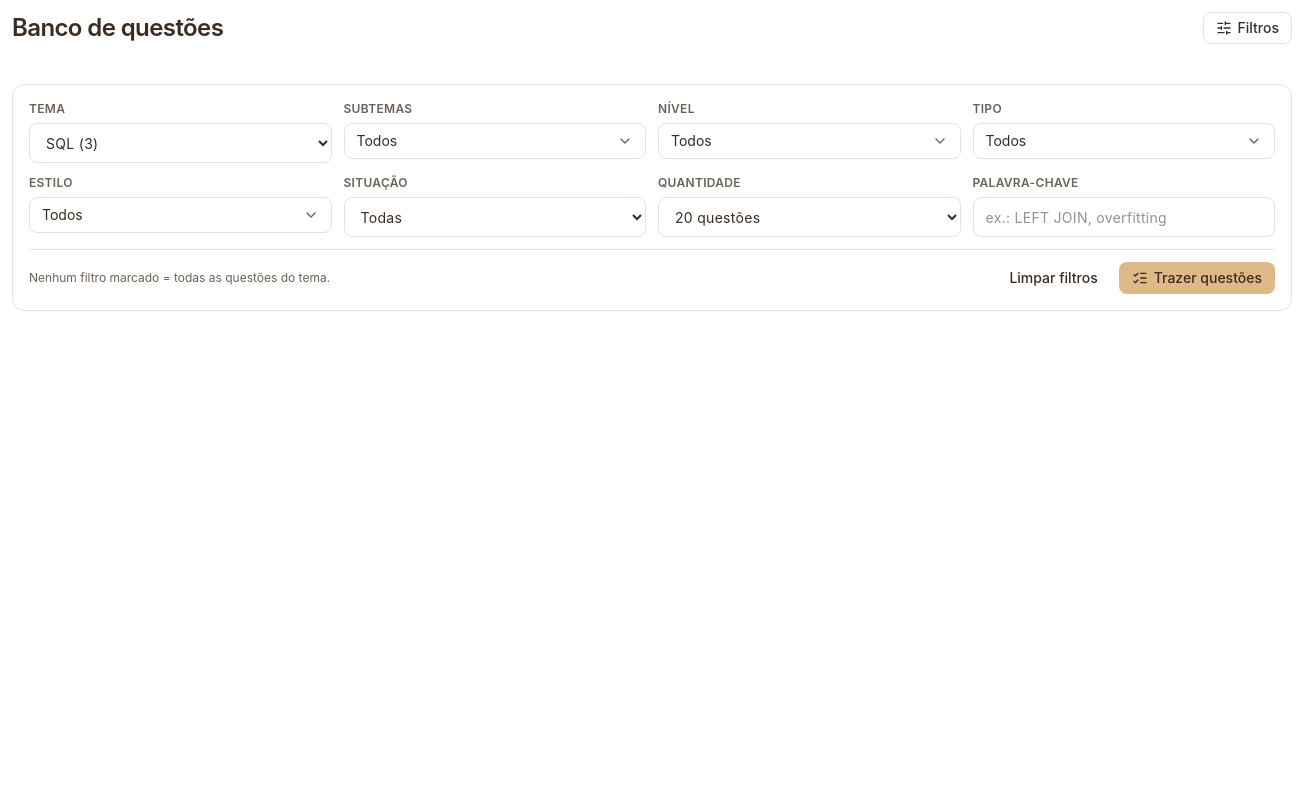
it: banco de questões › só monta a lista quando o usuário clica em "Trazer questões", e aí recolhe os filtros
expect the dropdown labelled "Tema" is shown: met, box [29,123,332,163]
Click the button "Trazer questões": coordinates (1197, 278) [1119,262,1275,294]
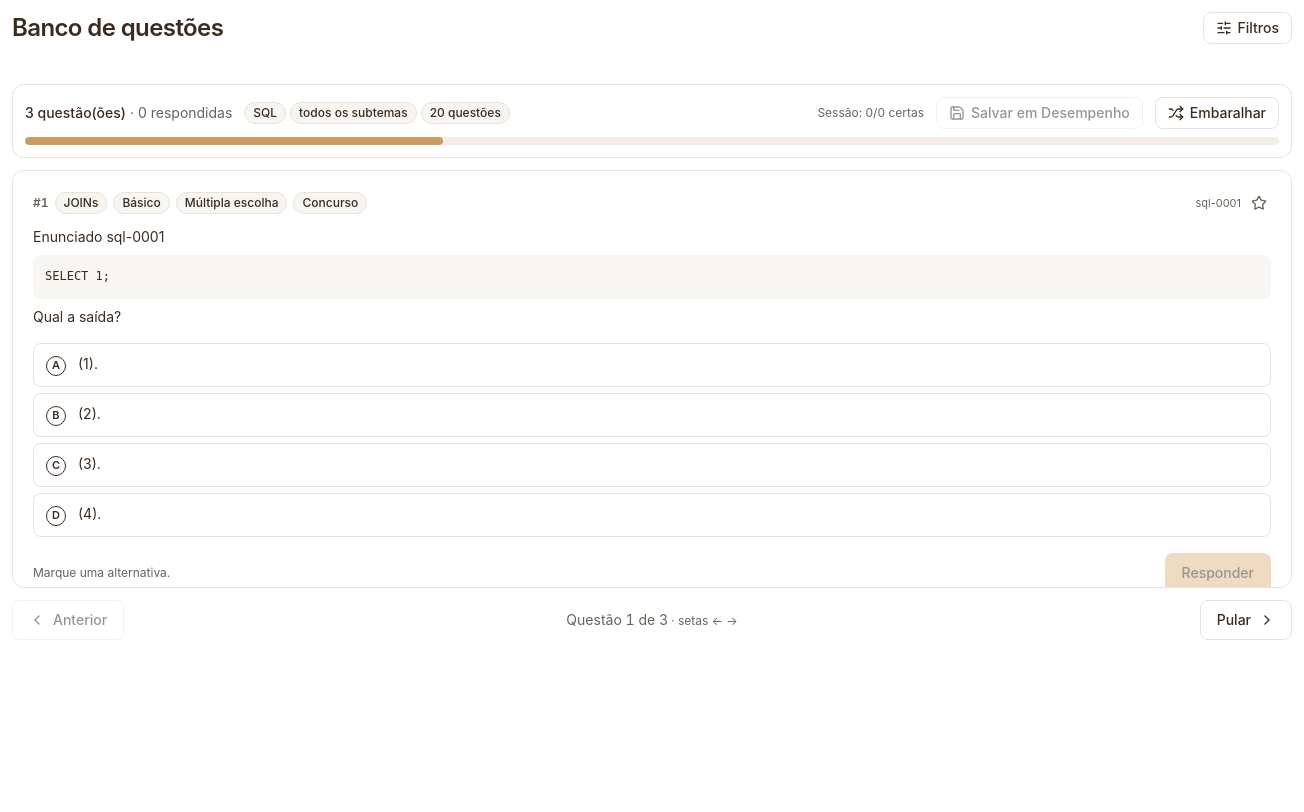
expect the text "3 questão(ões)" is shown: met, box [25,104,126,121]
expect the text "todos os subtemas" is shown: met, box [290,102,417,124]
expect the text "SELECT 1;" is shown: met, box [45,269,110,283]
